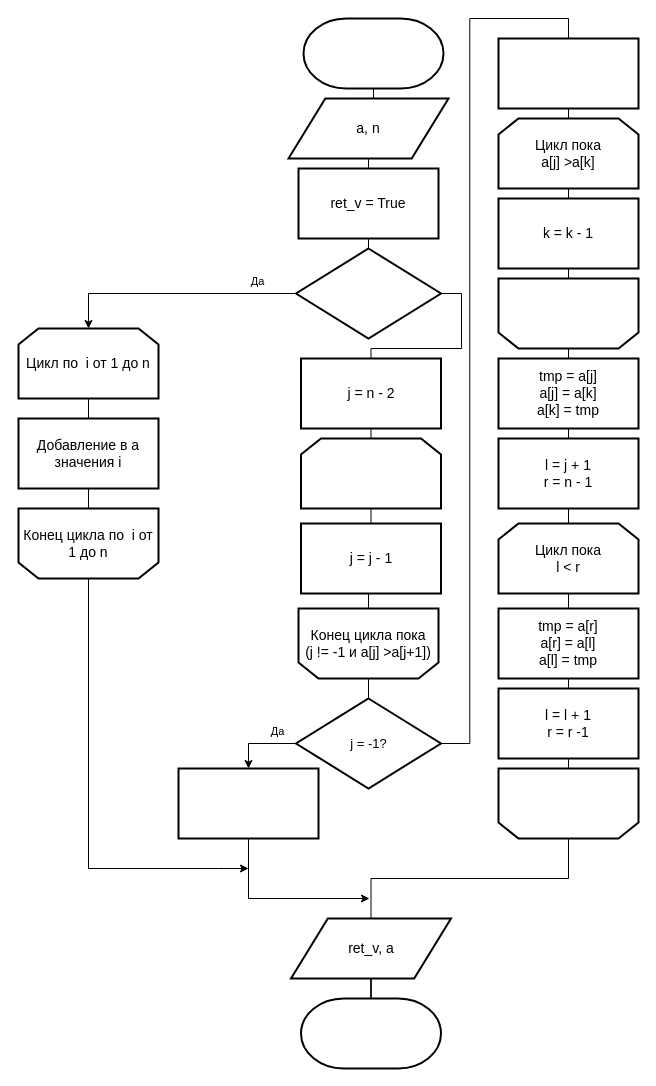
Image size: 656x1086. Some labels were removed from this diagram. The shapes that lost their labels are listed below. From the top down, each one's box as (x1, y1, x2, y2) in pixels, then its label:
(302, 17, 444, 89): Начало программы next_set
(497, 37, 639, 109): k = n - 1
(294, 247, 442, 339): a = []?
(497, 277, 639, 349): Конец цикла пока a[j] >a[k]
(300, 437, 442, 509): Цикл пока (j != -1 и a[j] >a[j+1])
(177, 767, 319, 839): ret_v = False
(497, 767, 639, 839): Конец цикла пока l < r
(300, 997, 442, 1069): Конец программы next_set
